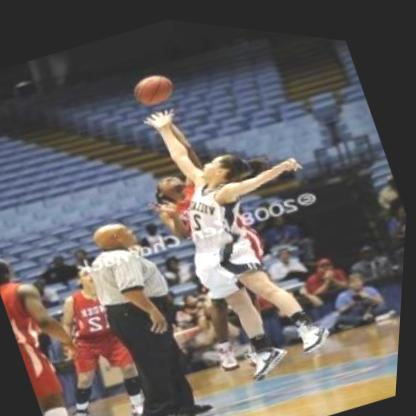basketball: (126, 58, 184, 117)
